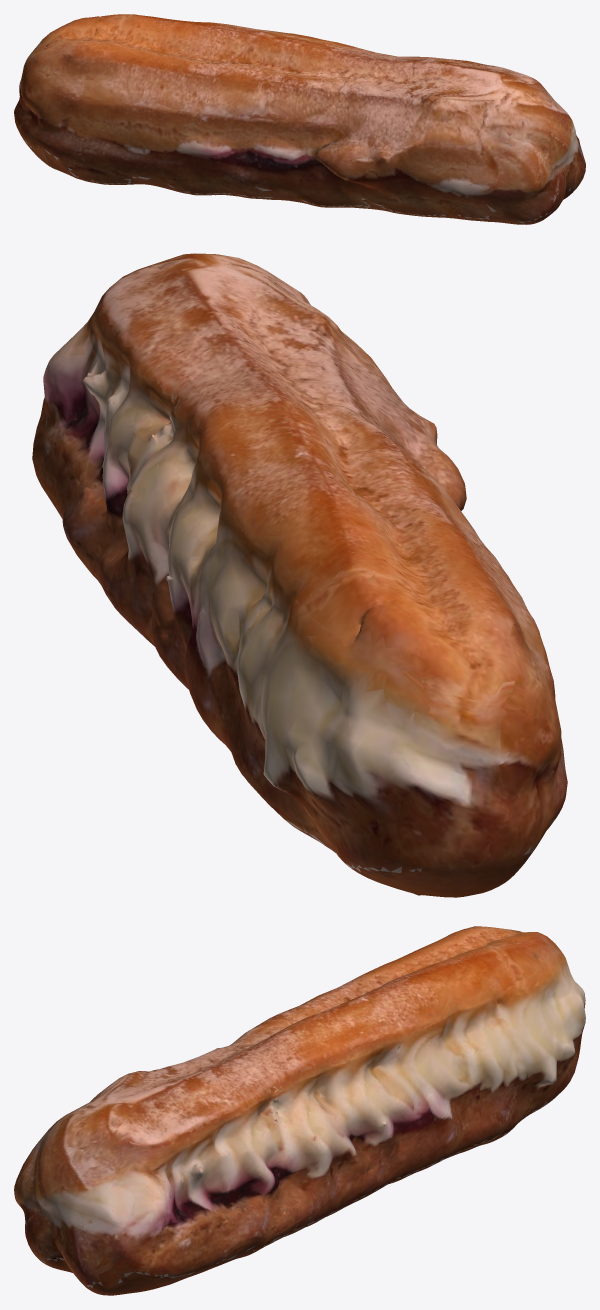
Rendered from eclaire_11302.obj.
The picture shows the model from 3 angles, top to bottom: view 1: azimuth 30°, elevation 25°; view 2: azimuth 150°, elevation 25°; view 3: azimuth 270°, elevation 25°; orthographic projection. The views are drawn at different scales.
Size of the model in its own units: 93.82 by 31.6 by 91.29.
1 material, 1 textured.
